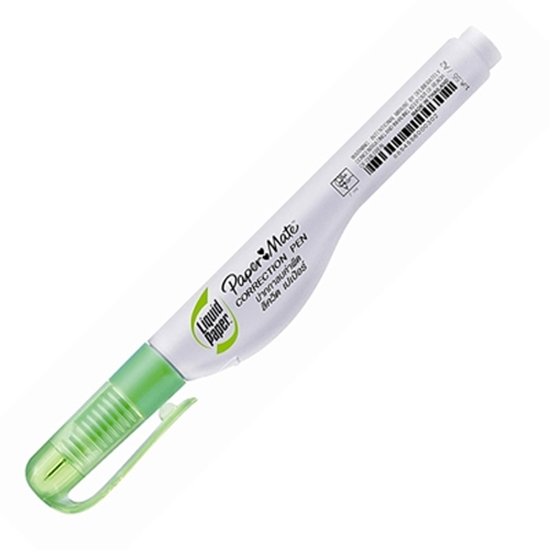Correction_fluid: (23, 21, 509, 527)
